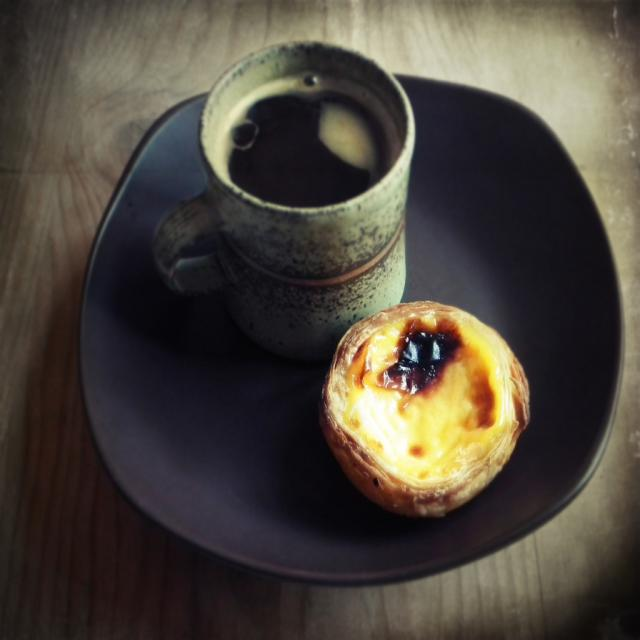Coffee: (212, 72, 402, 212)
